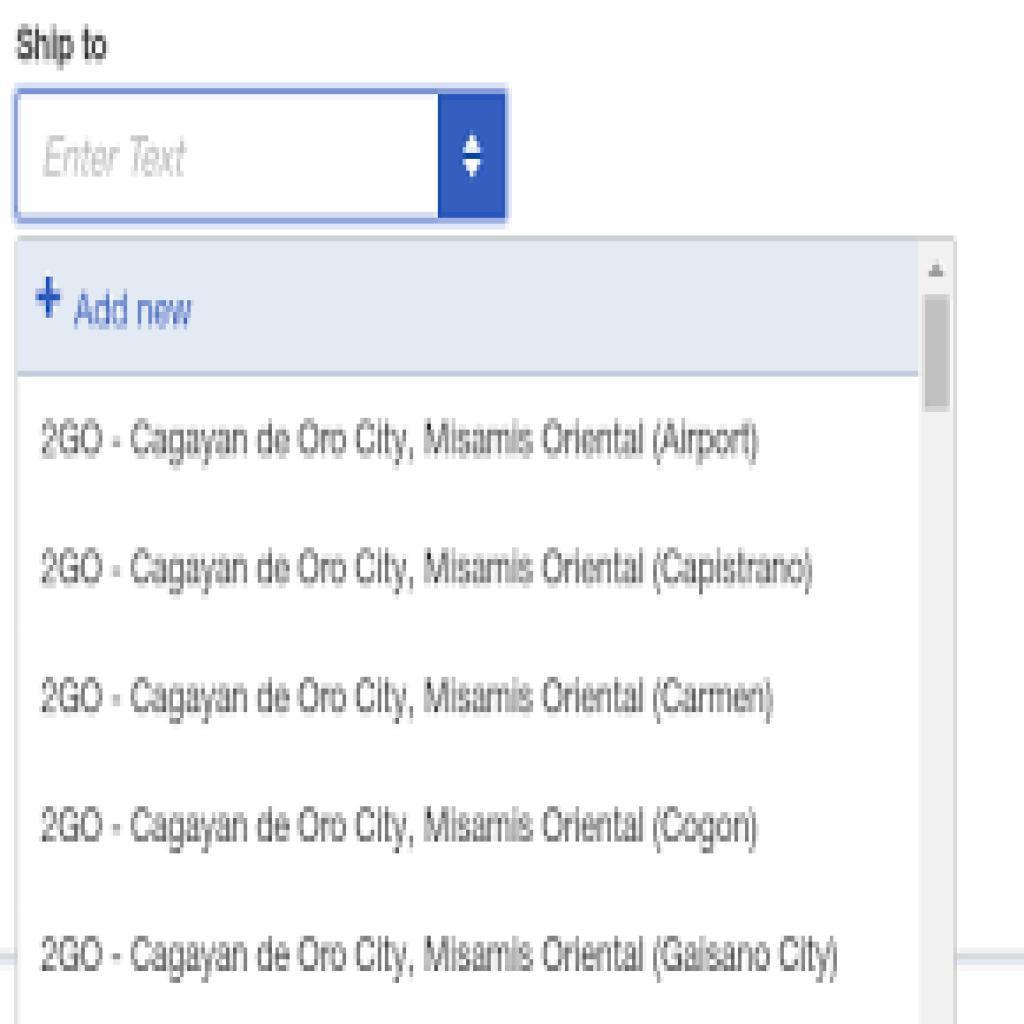icon: (32, 272, 71, 324)
input: (14, 89, 441, 224)
label: (71, 274, 199, 337)
